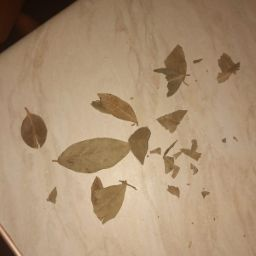Bay leaves: (5, 24, 256, 235), (148, 32, 212, 105), (150, 140, 213, 202), (50, 136, 137, 172), (81, 88, 147, 131), (84, 176, 137, 227), (10, 100, 53, 160), (120, 125, 156, 168), (218, 43, 250, 90), (151, 109, 193, 136), (216, 130, 247, 152), (43, 183, 62, 207)
